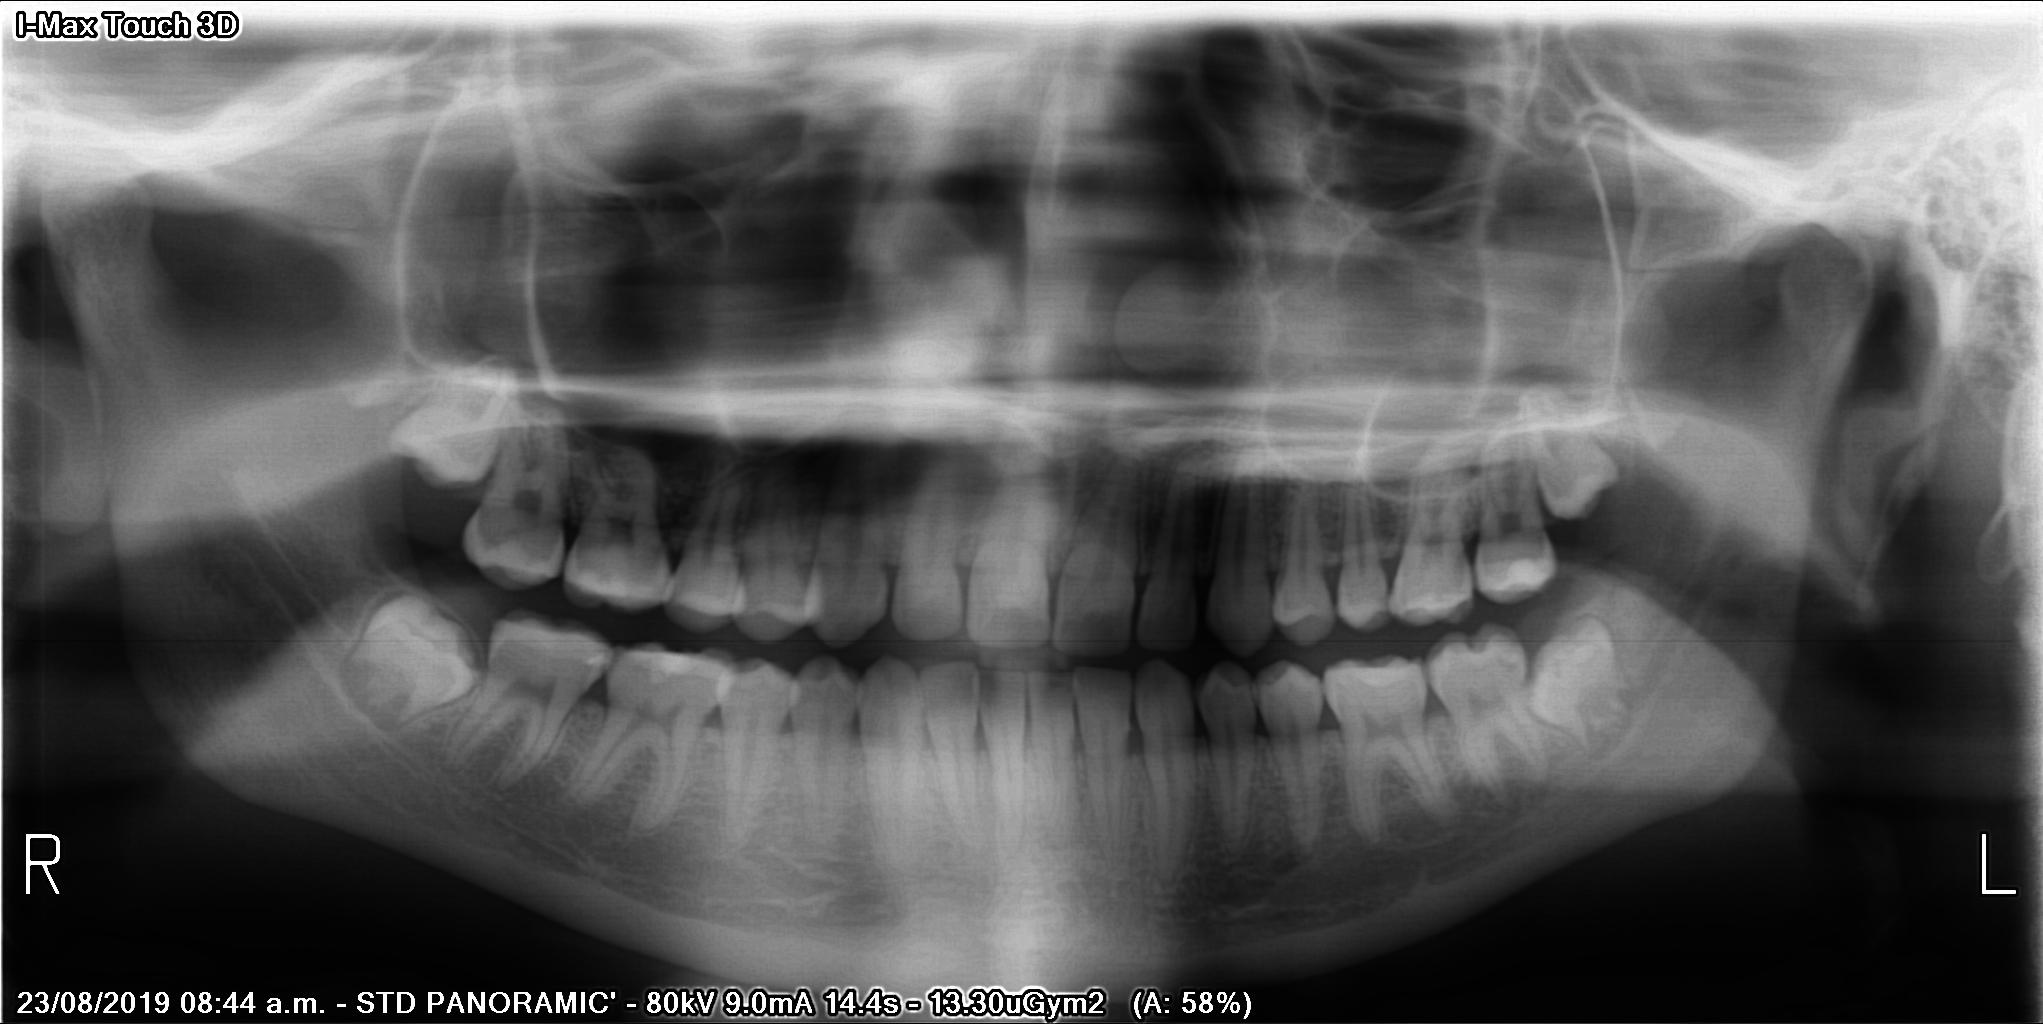Çürük: (650, 647, 731, 701), (1493, 552, 1552, 596), (580, 639, 615, 682)
